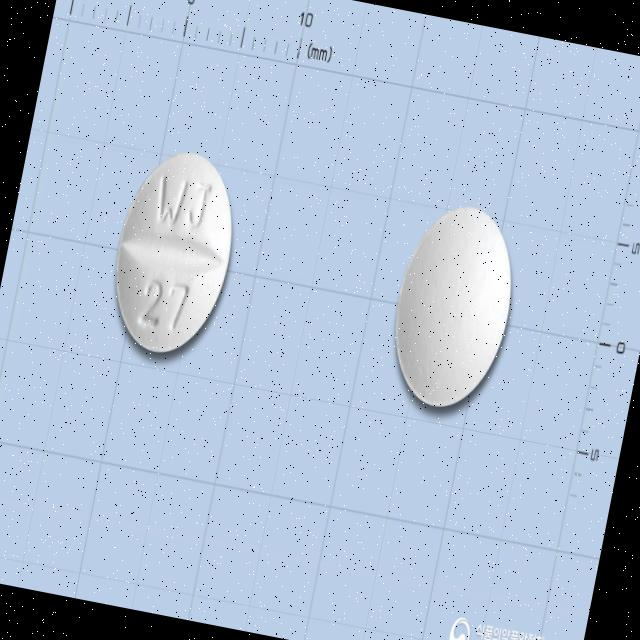Megarokshin: (100, 143, 248, 366), (380, 196, 528, 418)
